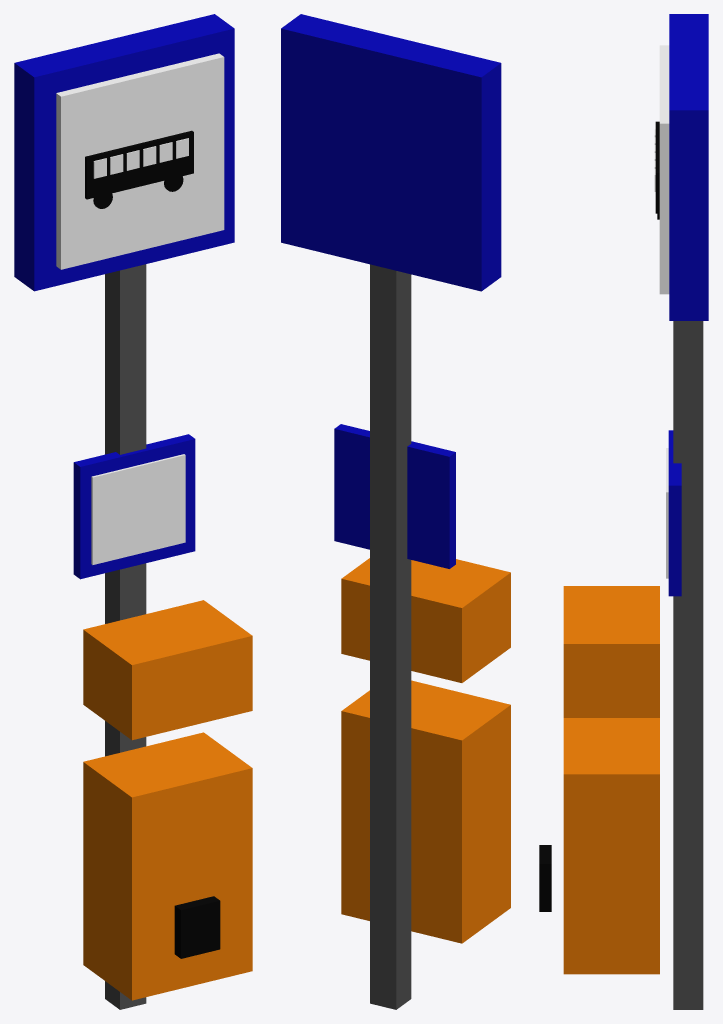
Rendered from stop_sign_01.obj.
The picture shows the model from 3 angles, left to right: view 1: azimuth 30°, elevation 25°; view 2: azimuth 150°, elevation 25°; view 3: azimuth 270°, elevation 25°; orthographic projection.
Parts seen in each view (by area): view 1: Box11, Box04, Box03, Box12, Box02, Box15, Box14, Box01, Box13; view 2: Box03, Box02, Box11, Box12, Box14; view 3: Box11, Box02, Box12, Box03, Box04, Box14, Box13, Box01.
Boxes of the visible parts, left/top/right/bottom form: Box11: left=83, top=732, right=252, bottom=1000; Box04: left=56, top=53, right=224, bottom=269; Box03: left=14, top=14, right=234, bottom=291; Box12: left=83, top=600, right=252, bottom=740; Box02: left=105, top=264, right=146, bottom=1009; Box15: left=91, top=454, right=185, bottom=564; Box14: left=73, top=434, right=195, bottom=579; Box01: left=85, top=130, right=193, bottom=199; Box13: left=174, top=896, right=220, bottom=958; Box03: left=281, top=14, right=501, bottom=291; Box02: left=370, top=264, right=411, bottom=1009; Box11: left=341, top=680, right=510, bottom=943; Box12: left=341, top=558, right=510, bottom=682; Box14: left=334, top=424, right=455, bottom=568; Box11: left=563, top=718, right=659, bottom=974; Box02: left=673, top=321, right=703, bottom=1009; Box12: left=563, top=586, right=659, bottom=717; Box03: left=669, top=14, right=708, bottom=320; Box04: left=659, top=45, right=669, bottom=294; Box14: left=668, top=430, right=681, bottom=596; Box13: left=539, top=845, right=551, bottom=911; Box01: left=655, top=121, right=659, bottom=213.
Bounding box in the file's own units: 0.8242 × 3.76 × 0.6117.
